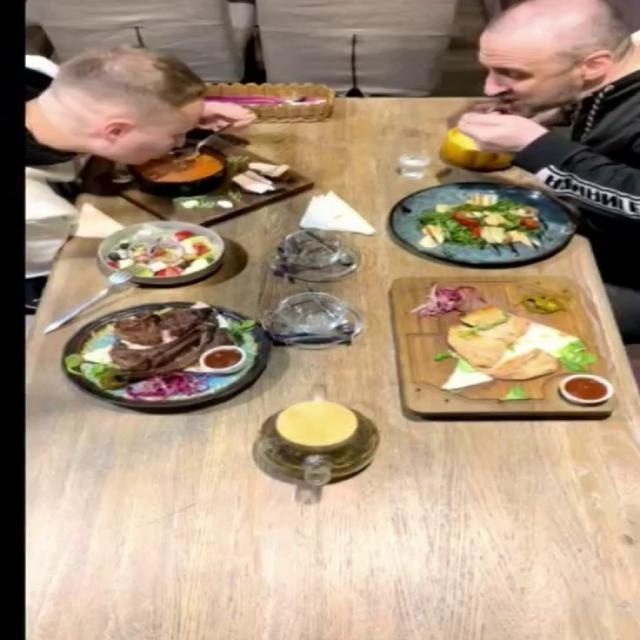meat: (387, 276, 621, 416), (61, 300, 273, 408)
salad: (392, 182, 580, 266), (96, 220, 226, 285)
soup: (89, 136, 316, 225), (415, 105, 533, 175)
tea: (244, 381, 386, 509)
